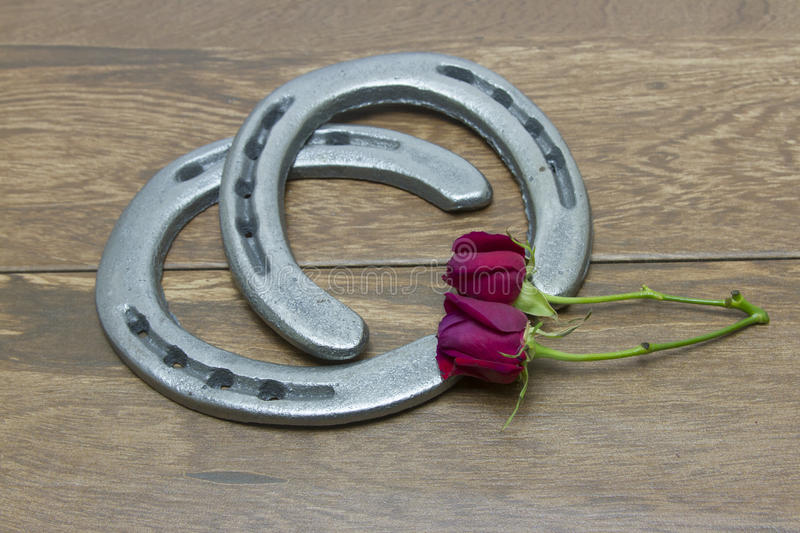RedRose: (432, 290, 545, 416), (439, 221, 551, 302)
